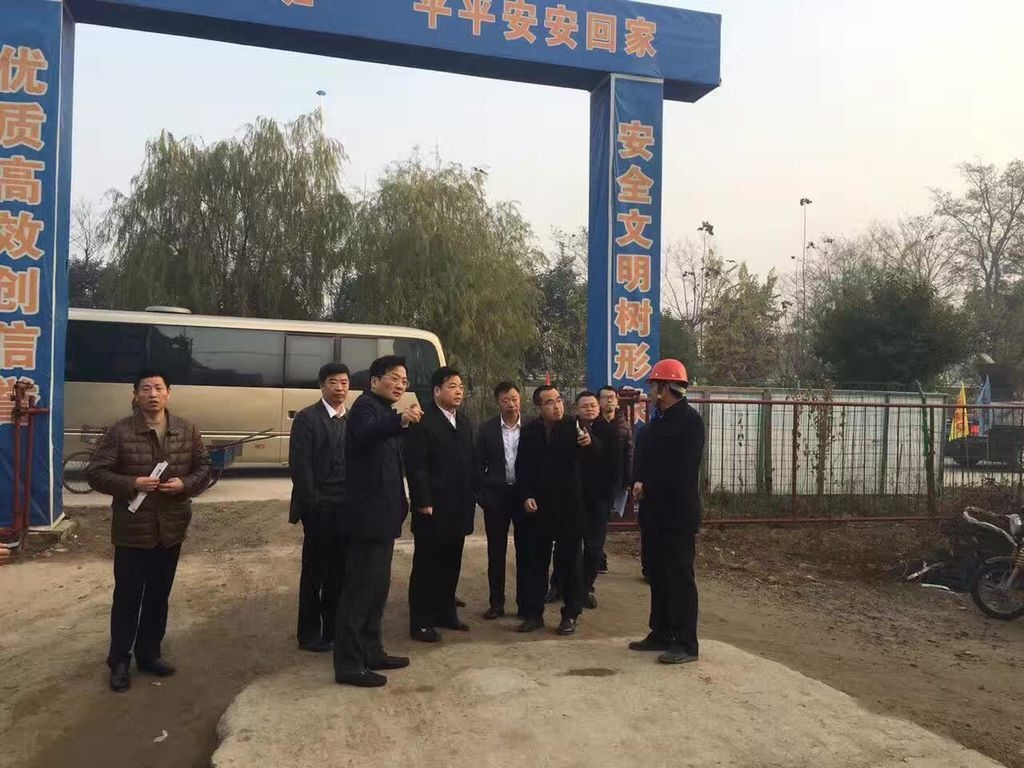none: (128, 365, 173, 416), (368, 355, 410, 402), (314, 360, 353, 405), (430, 365, 468, 410), (532, 383, 568, 424), (492, 381, 525, 418), (573, 389, 601, 421), (595, 383, 620, 415)
red: (645, 355, 691, 408)
